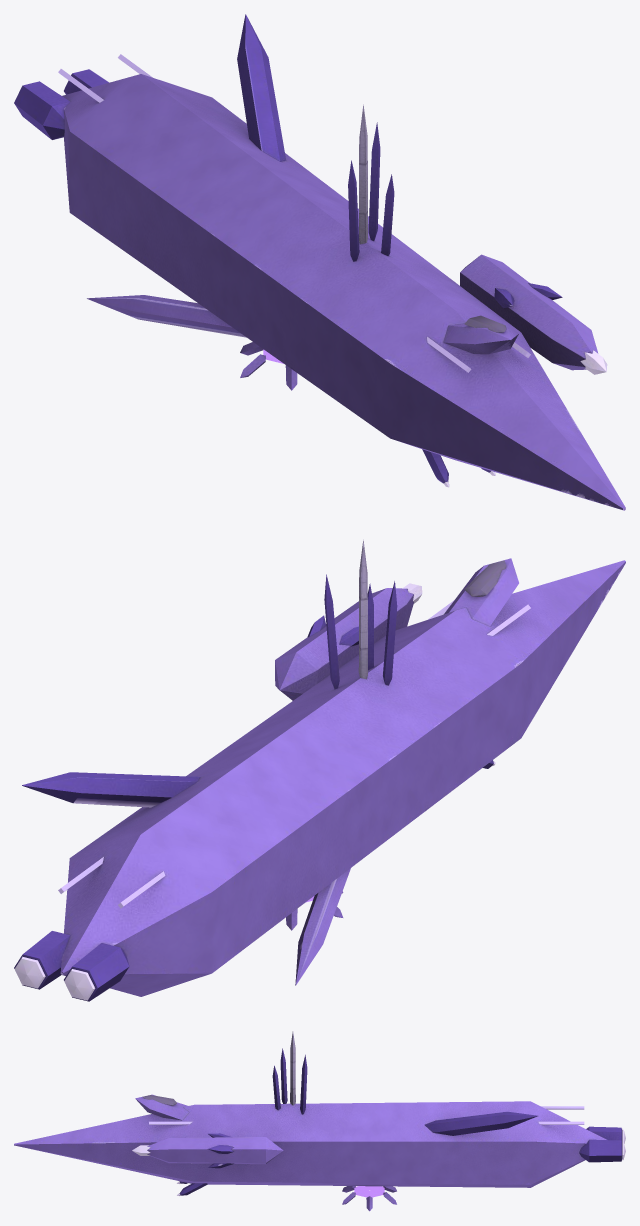
Rendered from myrr_picket.glb.
3 views of the same model, one above another, from view 1: azimuth 30°, elevation 25°; view 2: azimuth 150°, elevation 25°; view 3: azimuth 270°, elevation 25° (orthographic). The views are drawn at different scales.
Parts seen in each view (by area): view 1: HULL, SYS_WPN1, SYS_SENSORS, SYS_DRIVE, SYS_BRIDGE, SYS_DAMP; view 2: HULL, SYS_WPN1, SYS_DRIVE, SYS_SENSORS, SYS_BRIDGE; view 3: HULL, SYS_WPN1, SYS_DRIVE, SYS_SENSORS, SYS_BRIDGE, SYS_DAMP, SYS_BUS_A.
Part boxes in pixels (<box>): HULL: <box>62,14,625,510</box>; SYS_WPN1: <box>460,254,607,374</box>; SYS_SENSORS: <box>348,104,394,261</box>; SYS_DRIVE: <box>14,69,108,139</box>; SYS_BRIDGE: <box>443,315,518,354</box>; SYS_DAMP: <box>240,342,297,390</box>; HULL: <box>22,560,625,996</box>; SYS_WPN1: <box>275,583,422,700</box>; SYS_DRIVE: <box>14,931,129,1001</box>; SYS_SENSORS: <box>324,539,397,689</box>; SYS_BRIDGE: <box>444,558,518,626</box>; HULL: <box>14,1101,606,1187</box>; SYS_WPN1: <box>132,1133,283,1168</box>; SYS_DRIVE: <box>579,1126,625,1162</box>; SYS_SENSORS: <box>272,1031,307,1114</box>; SYS_BRIDGE: <box>135,1094,189,1120</box>; SYS_DAMP: <box>342,1186,396,1211</box>; SYS_BUS_A: <box>538,1106,584,1124</box>.
Bounding box in the file's own units: 5.17 × 6.92 × 22.84.
1 material, 1 textured.
